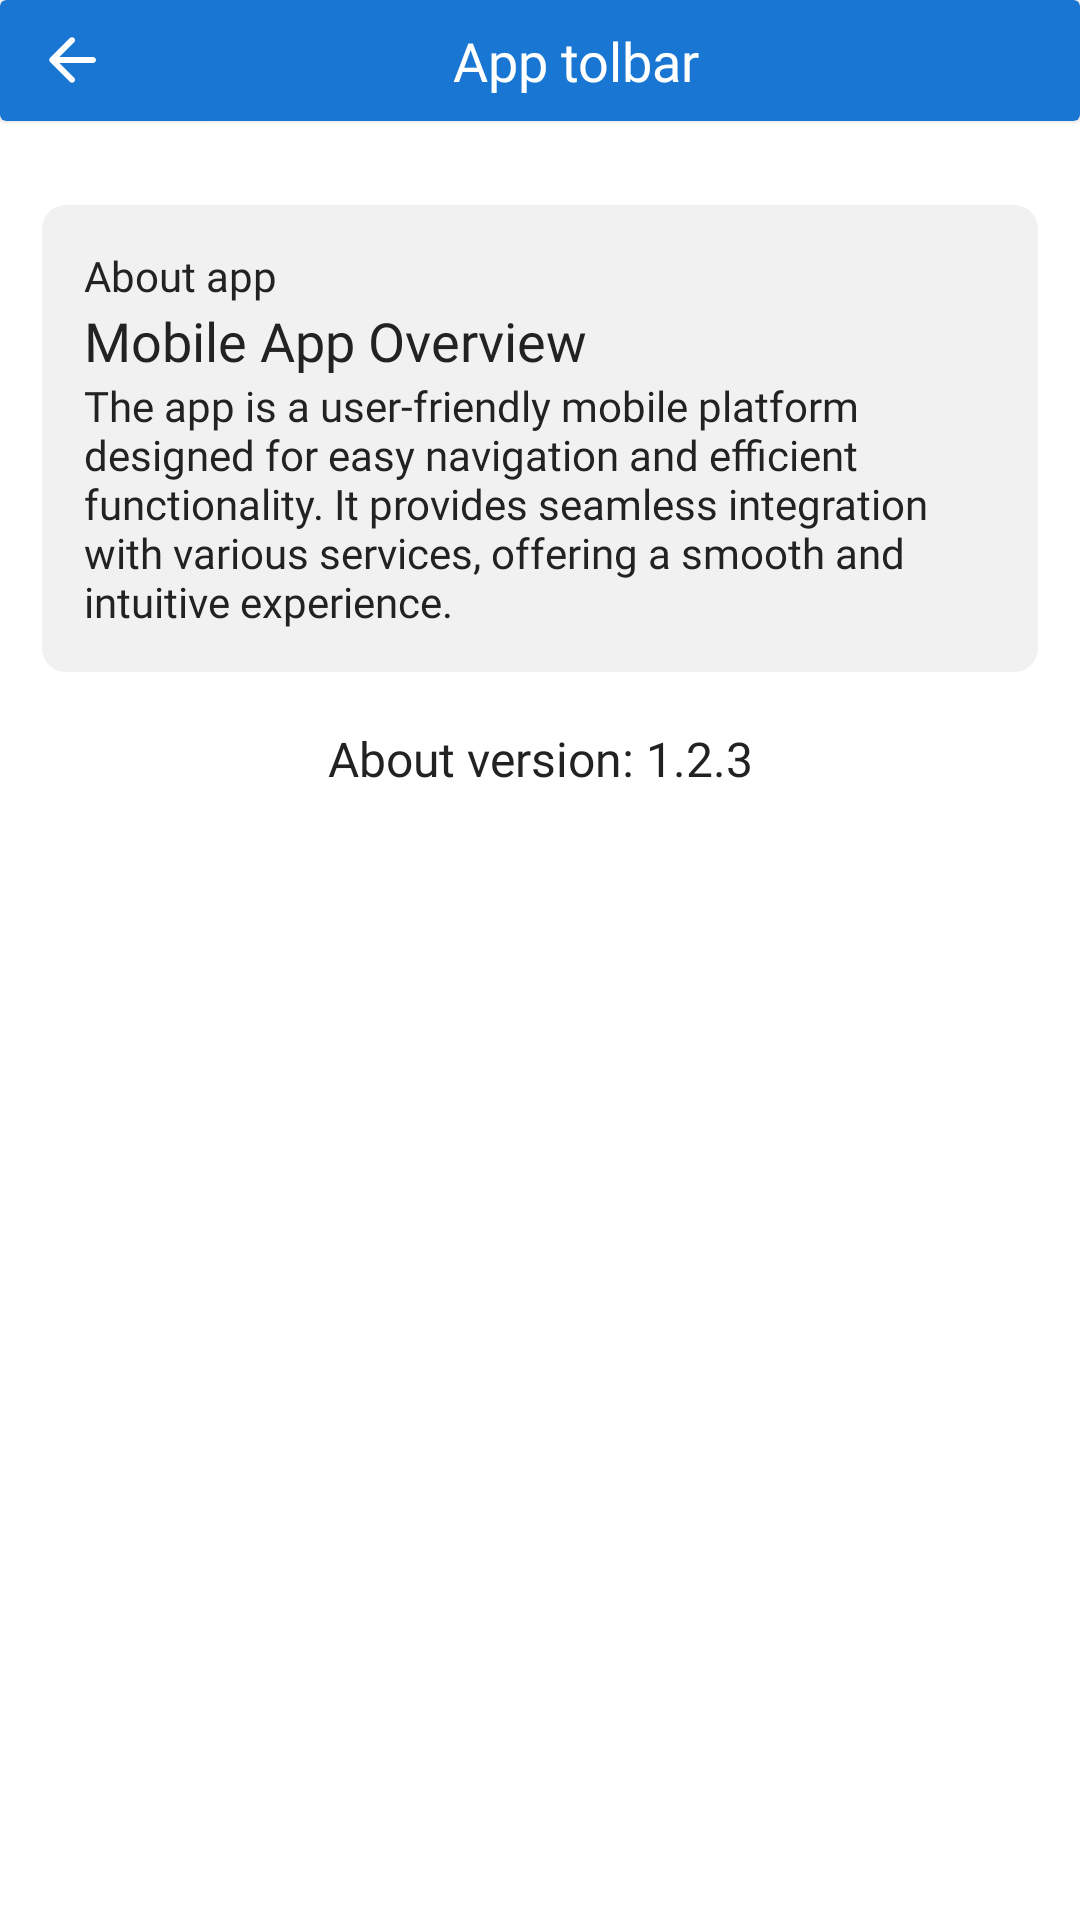

Point at icon controls on the screen. Image size 1080px×1920px, points as (x,y).
back: (72,60)
